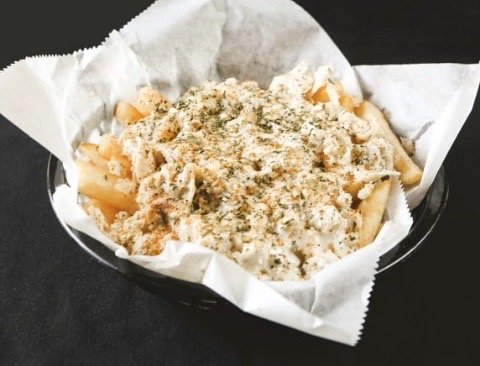sandwich: (70, 8, 417, 290)
